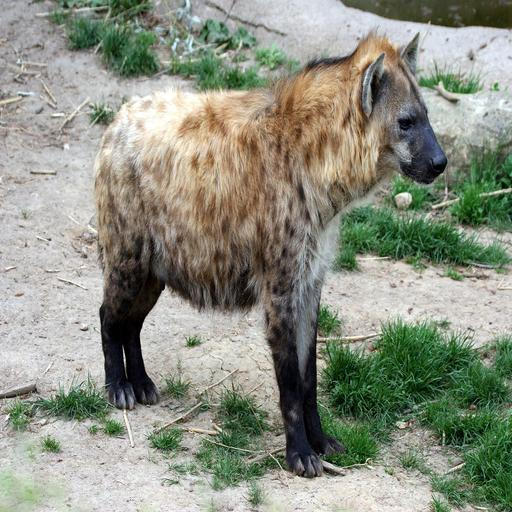Hyena: (83, 26, 455, 476)
